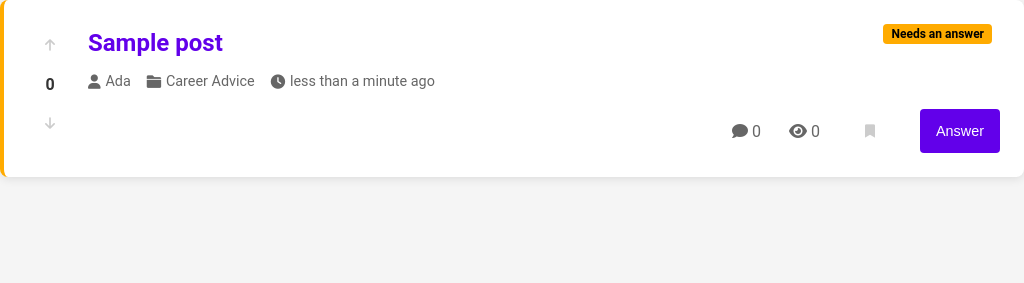
Test: PostItem answer composer › shows a sign-in prompt instead of the composer for unauthenticated users
Click the button "Answer" at (960, 131), box x1=920 y1=109 x2=1000 y2=153
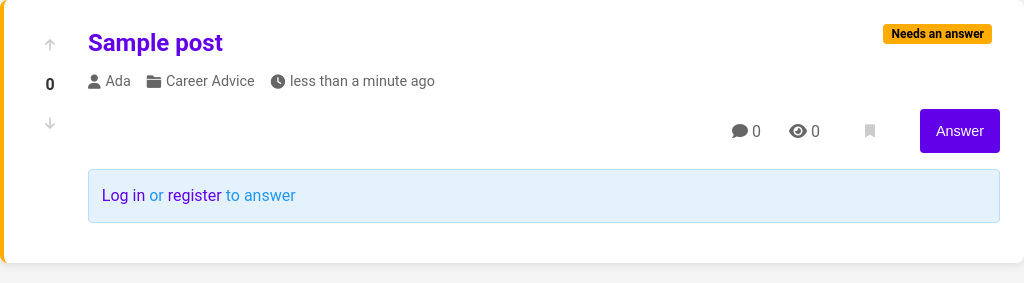
Expected: the link "Log in" is shown, x1=102 y1=186 x2=145 y2=205
